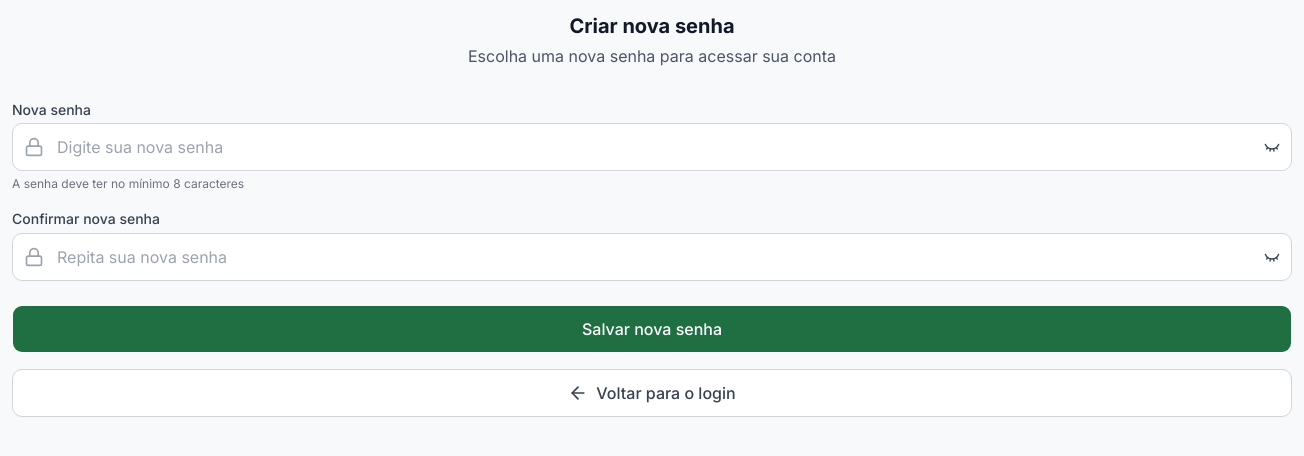
Test case: ResetPassword › requires both passwords to match
The width and height of the screenshot is (1304, 456).
Type "12345678" into the password field labelled "Nova senha".
click(652, 147); type("12345678")  # box [12,123,1292,171]
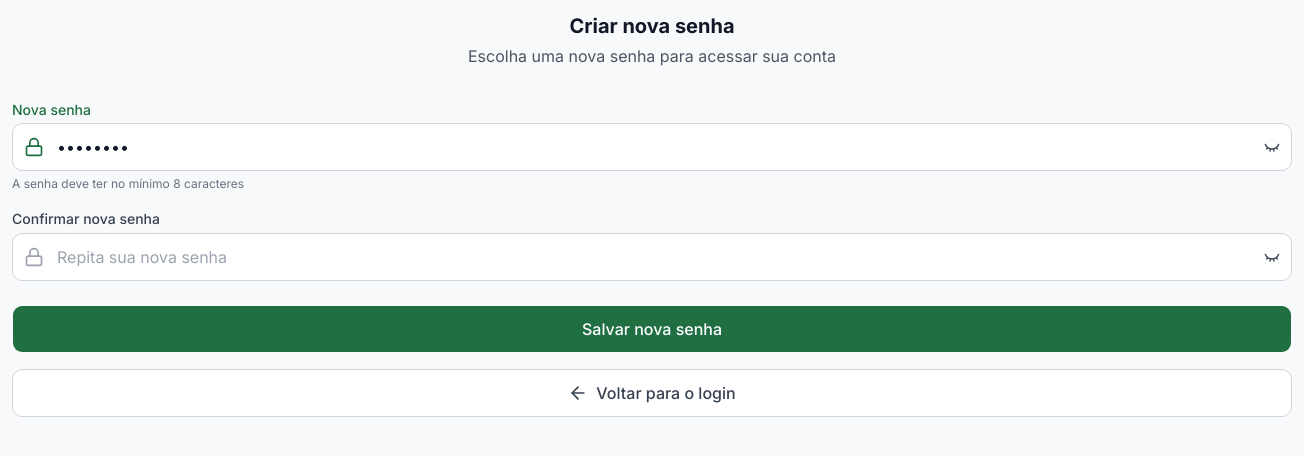
Type "87654321" into the password field labelled "Confirmar nova senha".
click(652, 256); type("87654321")  # box [12,232,1292,280]
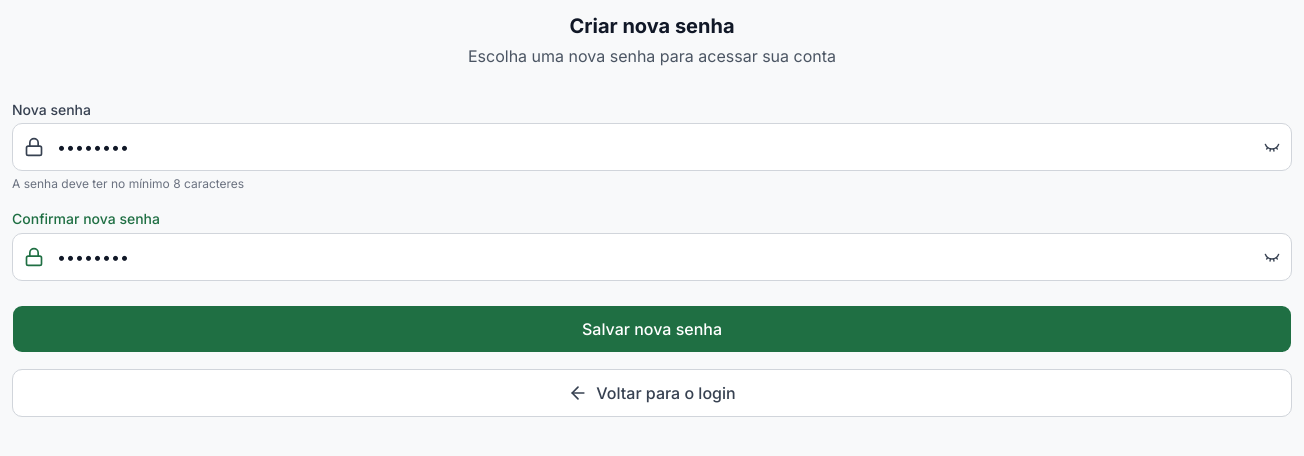
Click the button "Salvar nova senha".
click(652, 328)  # box [12,304,1292,352]
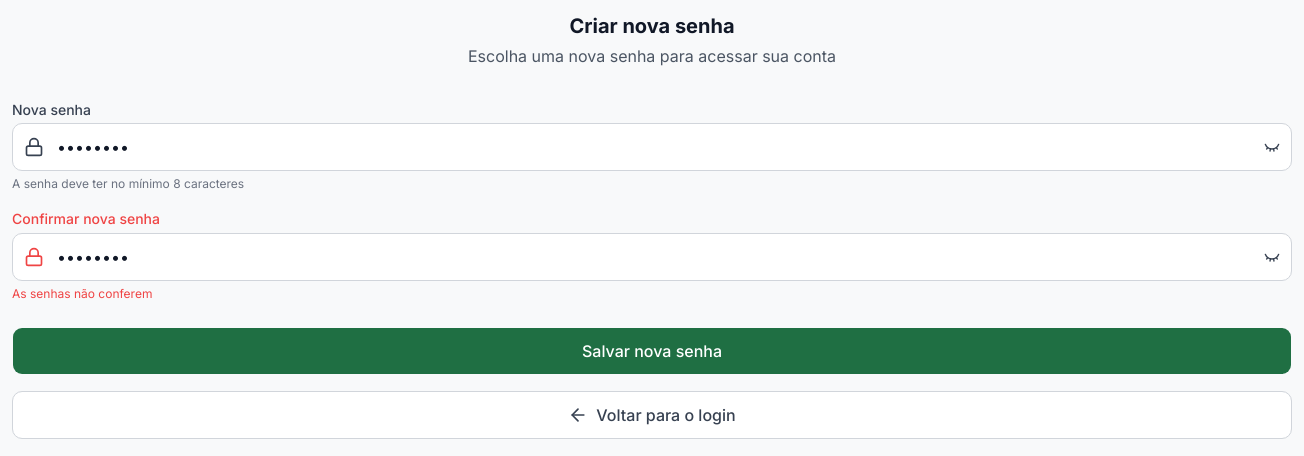
expect the text "As senhas não conferem" is shown: met, box [12,286,152,300]
